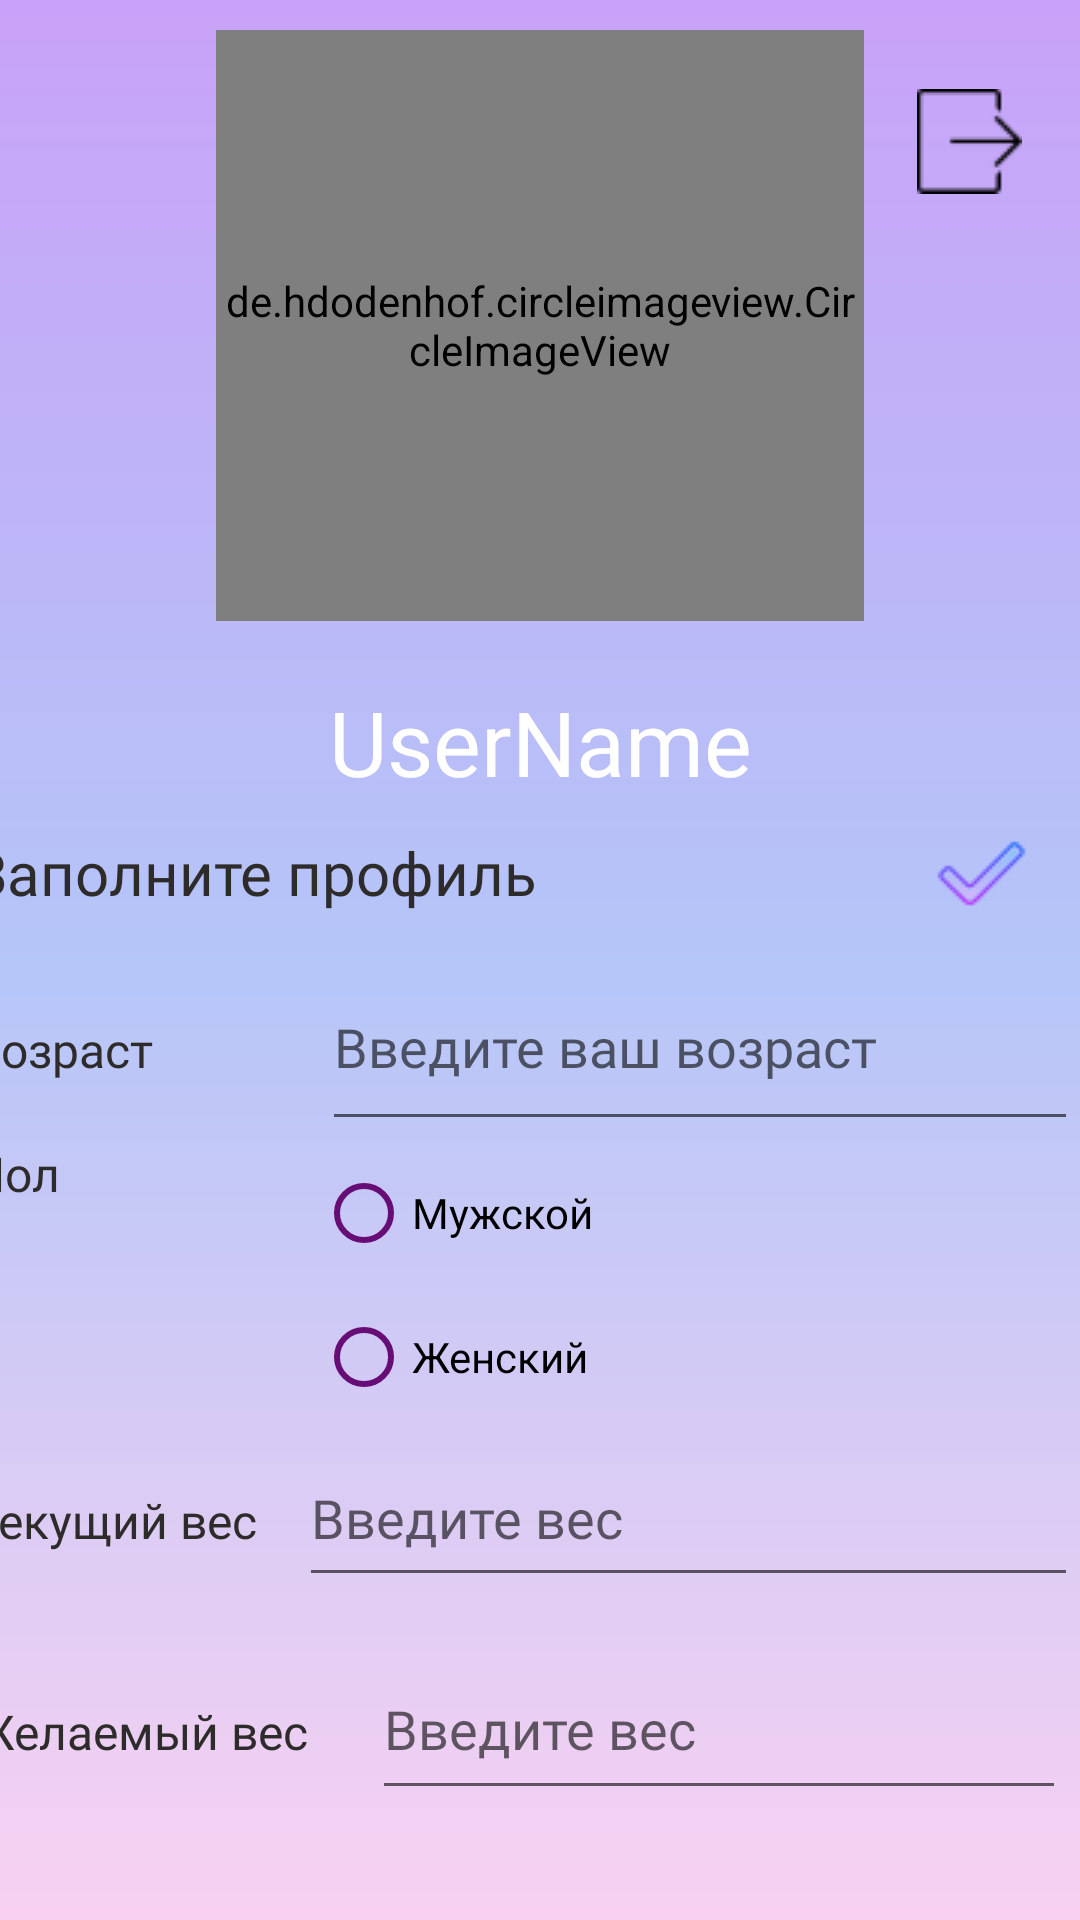

Icons on this 1080 x 1920 Android screen, each with its box as region(x1, y1, x2, y2):
Выход: region(917, 89, 1022, 194)
Сохранить: region(937, 841, 1026, 906)
